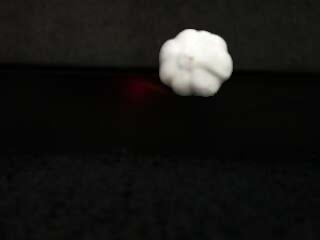Garlic: (159, 27, 234, 98)
